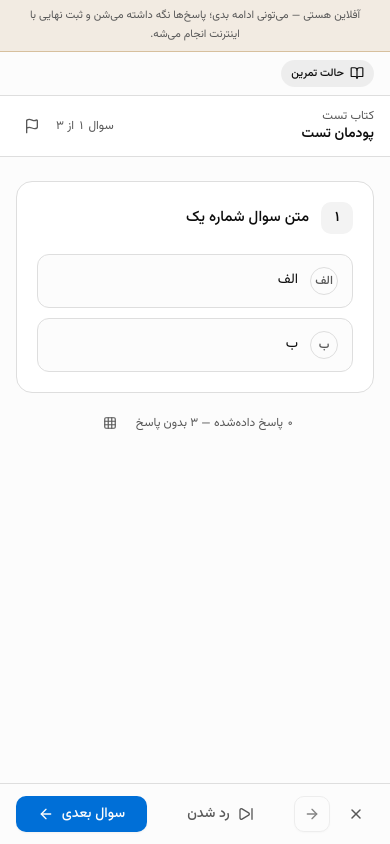
ExamView question navigation stability › goes back to the previous question with سوال قبلی
This screenshot has width=390, height=844.
Expected: the text "متن سوال شماره یک" is shown, [186,202,309,234]
Click the button "سوال بعدی" at (82, 814), box [16,796,147,832]
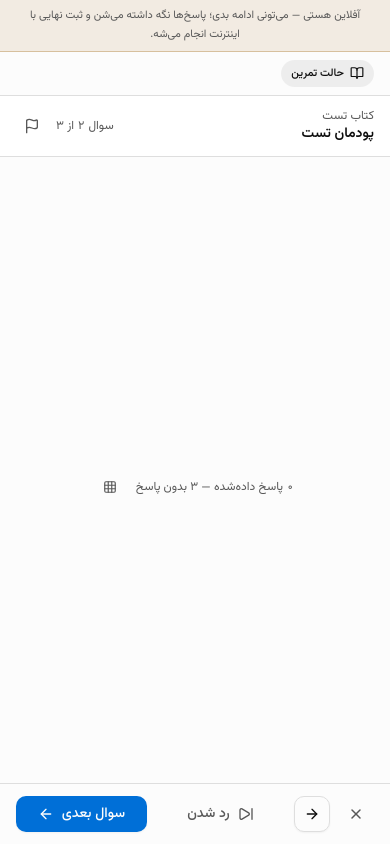
Click the button named "سوال قبلی" at (312, 814), box [294,796,330,832]
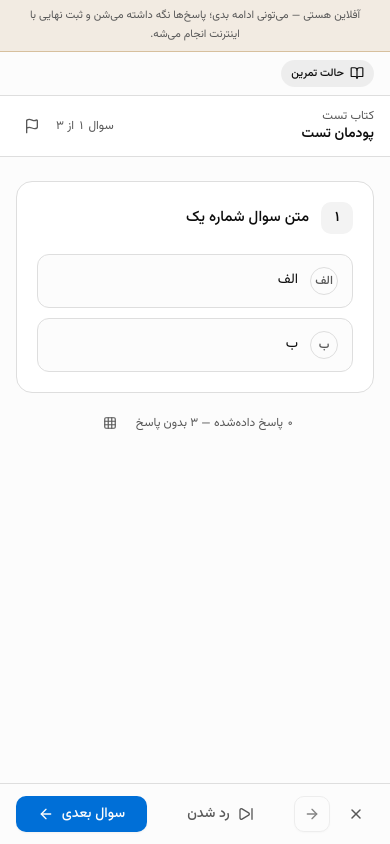
Expected: the text "متن سوال شماره یک" is shown, [186,202,309,234]
